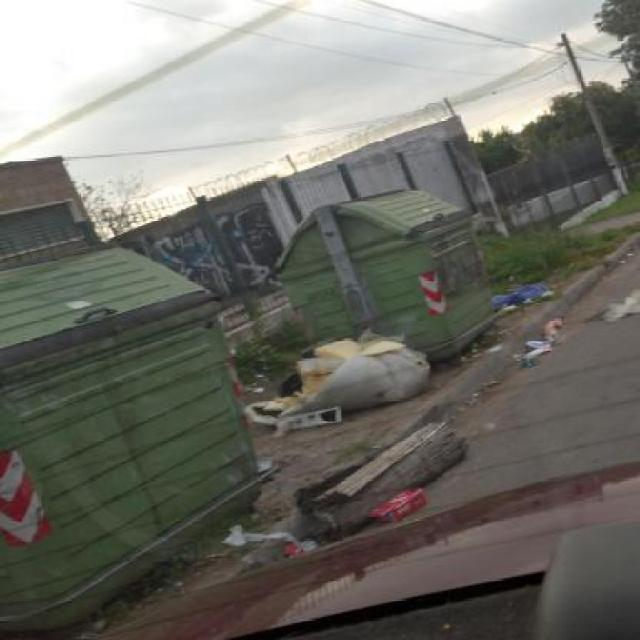garbage: (220, 308, 516, 540)
